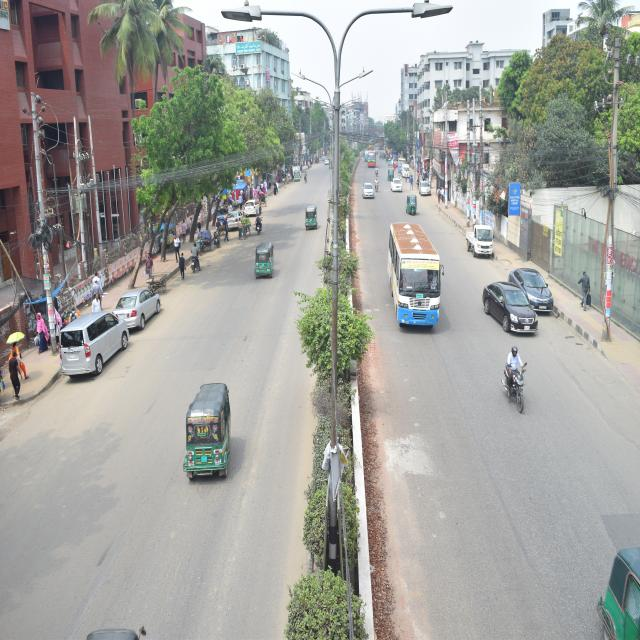bus: (382, 216, 448, 342), (366, 144, 378, 171)
car: (54, 306, 156, 387), (470, 251, 545, 350), (106, 272, 172, 336), (510, 254, 562, 334), (218, 199, 244, 238), (418, 173, 436, 208), (390, 168, 406, 202), (244, 193, 262, 223), (361, 178, 376, 206), (400, 156, 410, 184)
motorbike: (496, 344, 547, 424), (186, 236, 201, 282), (252, 207, 268, 241), (210, 221, 222, 256), (372, 160, 384, 182), (372, 174, 380, 201)
pickup-van: (459, 213, 500, 269)
